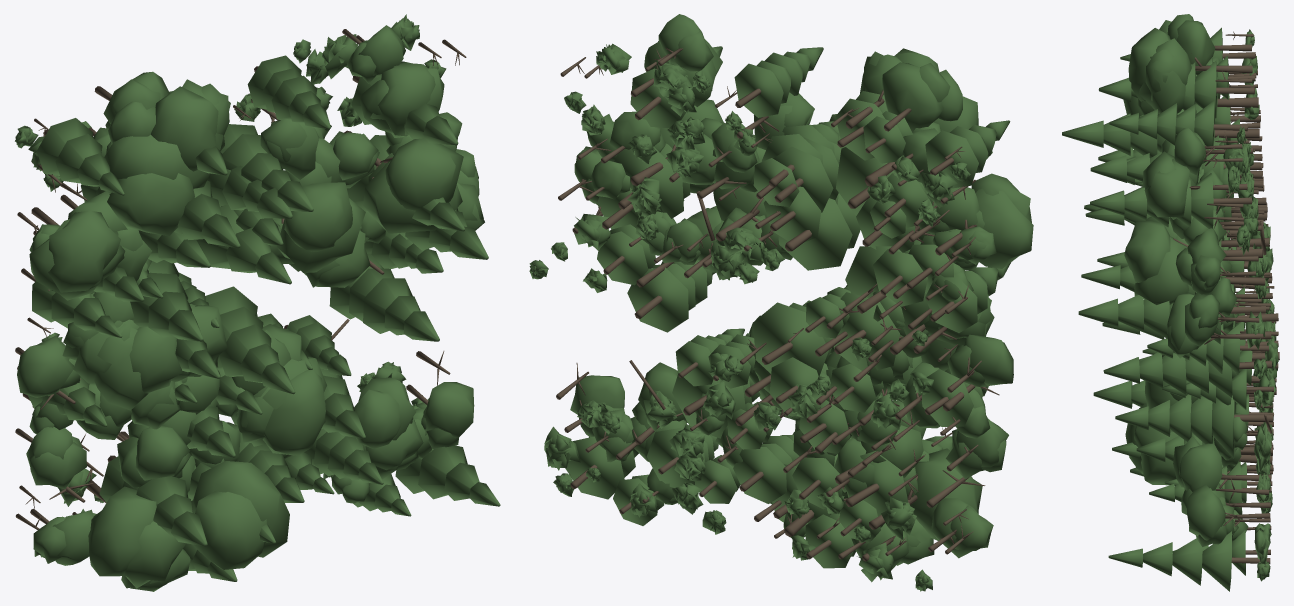
Rendered from batch_VEG_n002_p003.glb.
3 views of the same model, side by side, from view 1: azimuth 30°, elevation 25°; view 2: azimuth 150°, elevation 25°; view 3: azimuth 270°, elevation 25° (orthographic). The views are drawn at different scales.
Parts seen in each view (by area): view 1: SAR_Tree_0435.001; view 2: SAR_Tree_0435.001; view 3: SAR_Tree_0435.001.
Part boxes in pixels (bbox=[...]): SAR_Tree_0435.001: bbox=[15, 14, 500, 591]; SAR_Tree_0435.001: bbox=[529, 14, 1033, 591]; SAR_Tree_0435.001: bbox=[1062, 14, 1279, 591].
Size of the model in its own units: 53.88 by 56.58 by 24.73.
